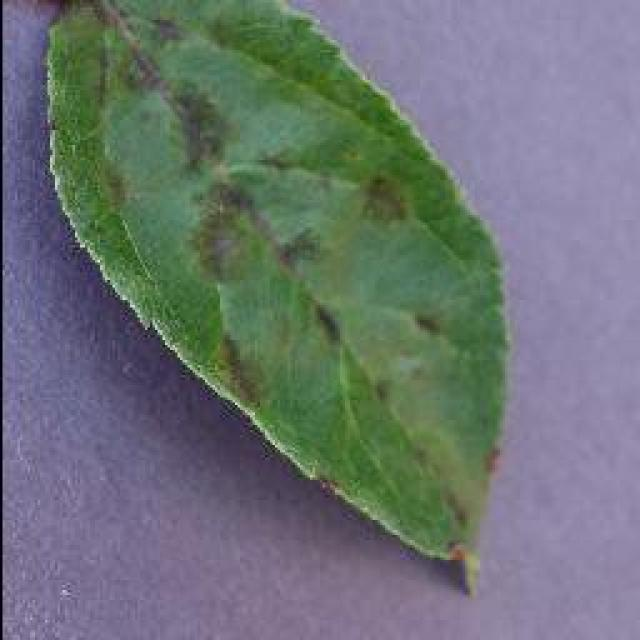apple scab disease: (40, 0, 512, 598)
